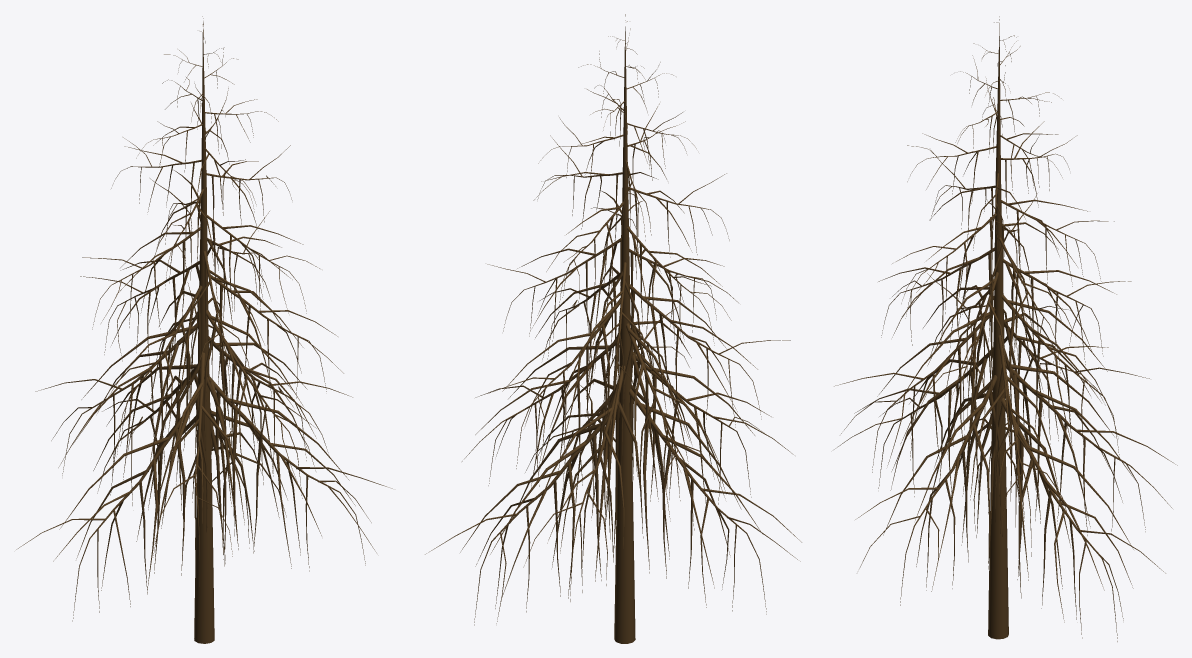
The model's file is Tree.fbx.
The picture shows the model from 3 angles, left to right: view 1: azimuth 30°, elevation 25°; view 2: azimuth 150°, elevation 25°; view 3: azimuth 270°, elevation 25°; orthographic projection.
Visible parts, largest first — view 1: tree; view 2: tree; view 3: tree.
Boxes of the visible parts, x1,y1,x2,y2 form: tree: (16, 16, 392, 643); tree: (425, 14, 801, 643); tree: (834, 16, 1177, 641).
Size of the model in its own units: 8.58 by 15.39 by 7.79.
